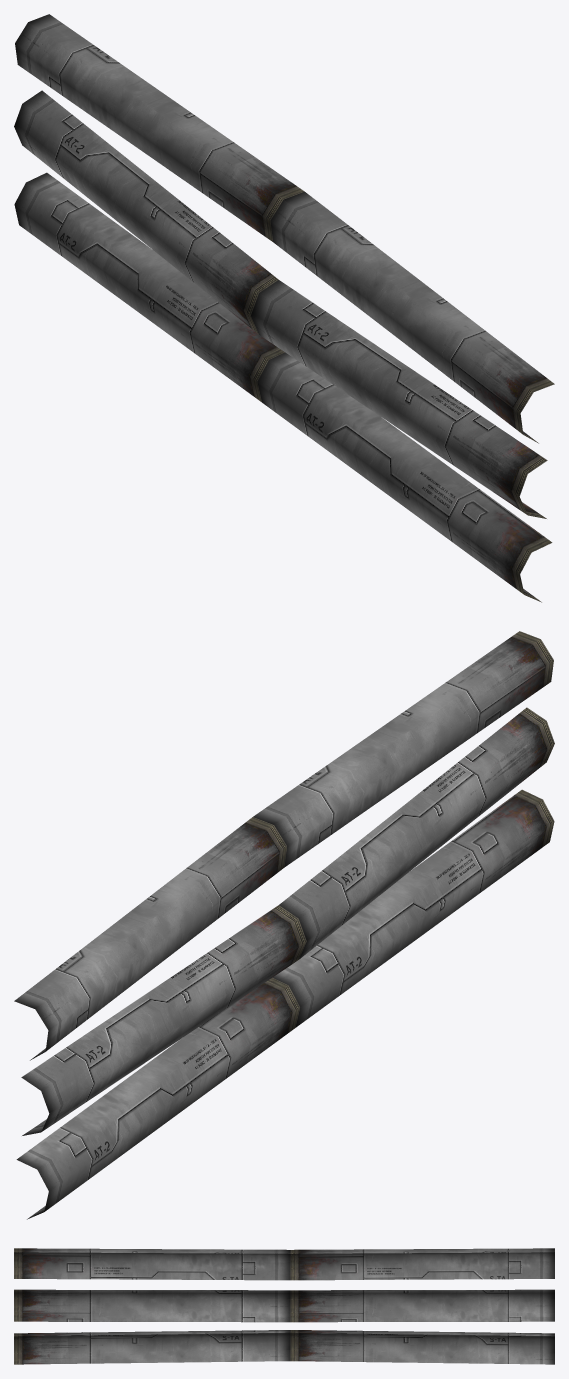
File: mprw_pipes_3_long_low.FBX
3 renders of one model, top to bottom at view 1: azimuth 30°, elevation 25°; view 2: azimuth 150°, elevation 25°; view 3: azimuth 270°, elevation 25°, orthographic. The views are drawn at different scales.
Visible parts, largest first — view 1: mprw_pipes_3_long_low; view 2: mprw_pipes_3_long_low; view 3: mprw_pipes_3_long_low.
Part boxes in pixels (<box>): mprw_pipes_3_long_low: <box>14,14,554,602</box>; mprw_pipes_3_long_low: <box>14,631,554,1219</box>; mprw_pipes_3_long_low: <box>14,1248,554,1364</box>.
Size of the model in its own units: 42.48 by 163 by 688.
Materials: 1 (1 with a texture image).
